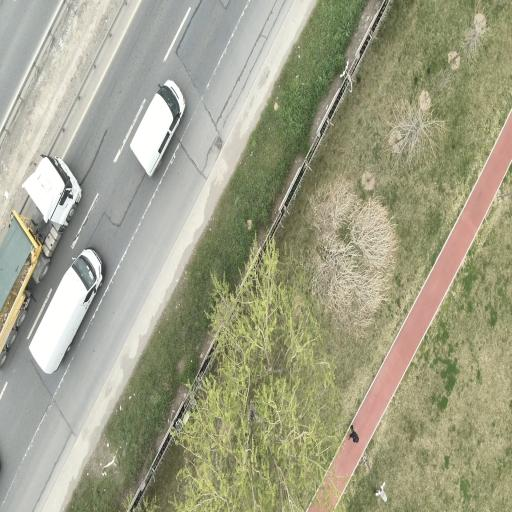car: (29, 247, 103, 374), (130, 80, 185, 176)
person: (350, 425, 358, 443)
truck: (0, 155, 81, 366)
